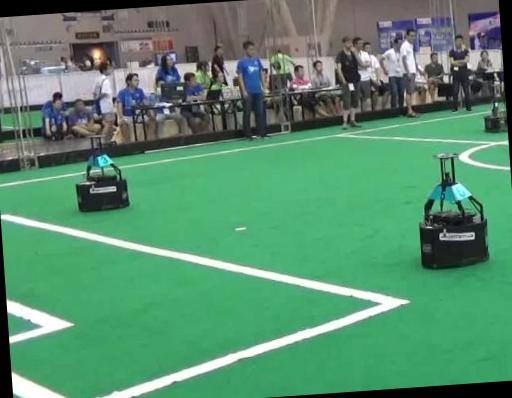person: (237, 41, 265, 138), (335, 36, 362, 129)
robot: (419, 154, 488, 268), (76, 135, 130, 211), (484, 81, 508, 133)
